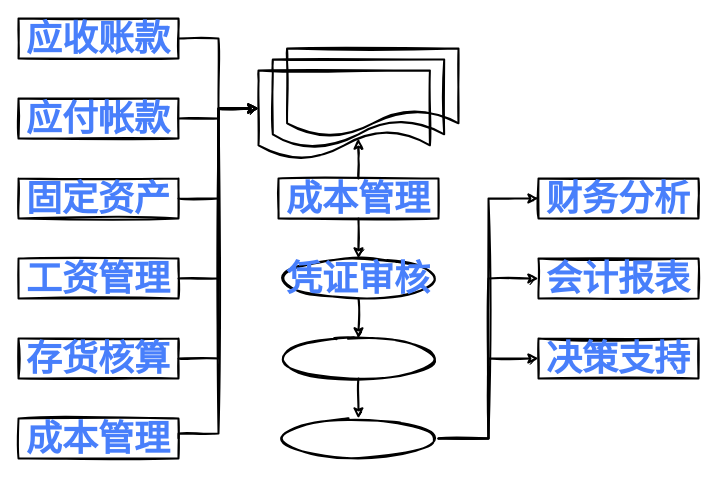
Image size: 716x477. Some labels were removed from this diagram. Here are the shapes that lost their labels. From the top down, the box of each, then its label:
(257, 69, 430, 159): 记账凭证
(277, 337, 439, 379): 凭证记账
(277, 417, 439, 459): 期末结帐
